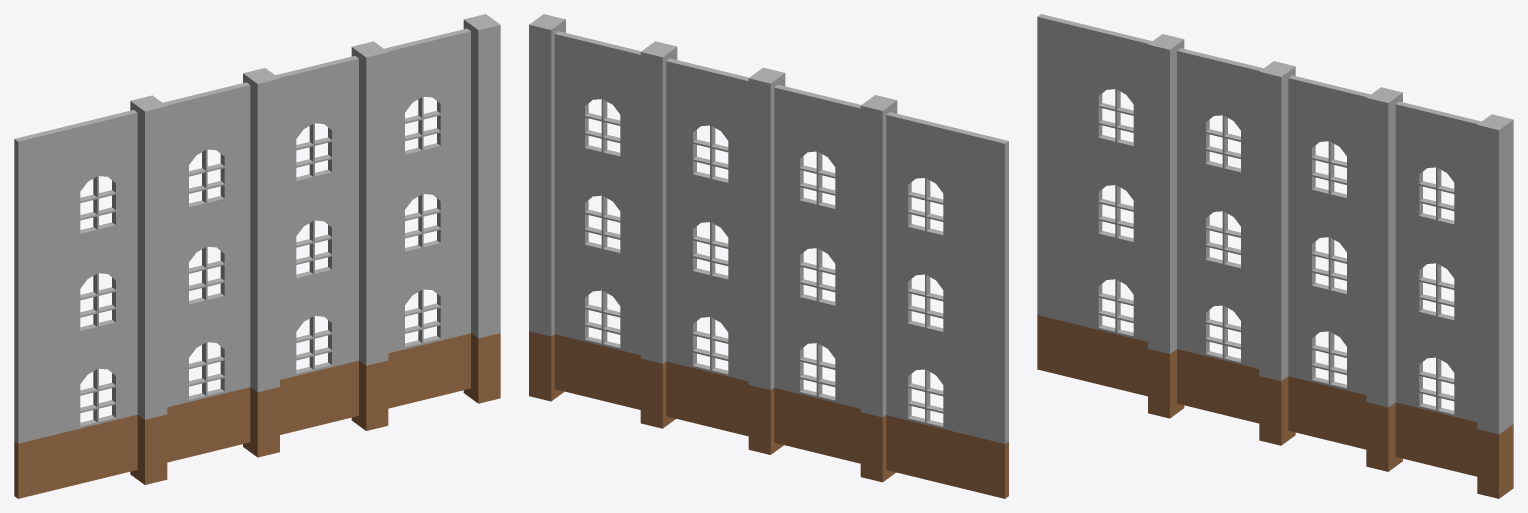
Rendered from GymWall1.fbx.
3 renders of one model, left to right at view 1: azimuth 30°, elevation 25°; view 2: azimuth 150°, elevation 25°; view 3: azimuth 330°, elevation 25°, orthographic.
Parts seen in each view (by area): view 1: 평면; view 2: 평면; view 3: 평면.
Boxes of the visible parts, x1,y1,x2,y2 form: 평면: (14,14,500,498); 평면: (529,14,1008,498); 평면: (1037,14,1513,498).
Size of the model in its own units: 2195 by 1649 by 118.
